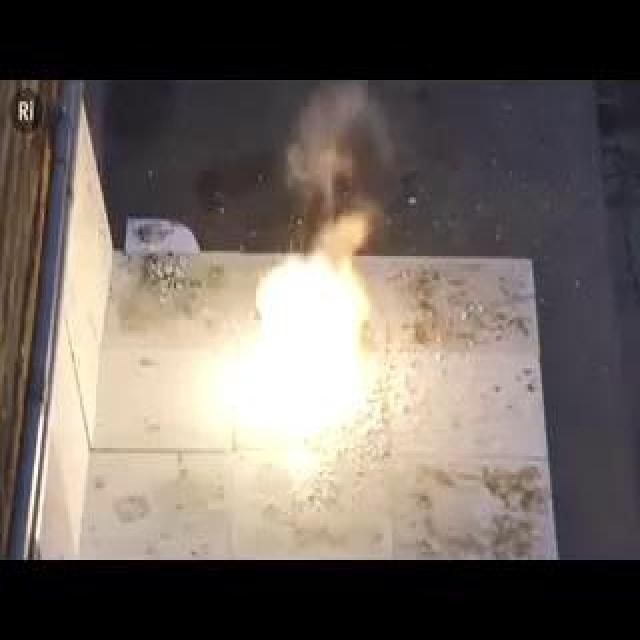Fire: (300, 328, 306, 330)
